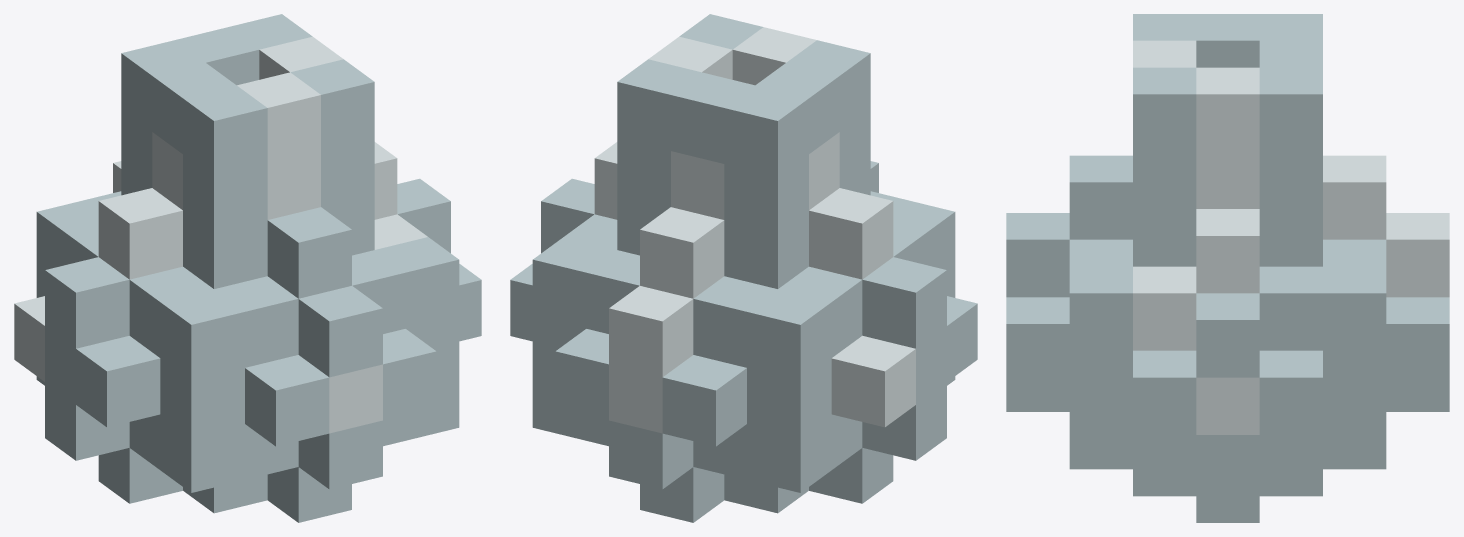
File: Potion_Purple_Glass.fbx
3 views of the same model, side by side, from view 1: azimuth 30°, elevation 25°; view 2: azimuth 150°, elevation 25°; view 3: azimuth 270°, elevation 25° (orthographic). The views are drawn at different scales.
Visible parts, largest first — view 1: Potion_Purple_Glass; view 2: Potion_Purple_Glass; view 3: Potion_Purple_Glass.
Part boxes in pixels (left/top/right/bottom): Potion_Purple_Glass: left=14, top=14, right=481, bottom=522; Potion_Purple_Glass: left=510, top=14, right=977, bottom=522; Potion_Purple_Glass: left=1006, top=14, right=1449, bottom=522.
Bounding box in the file's own units: 0.2333 × 0.2333 × 0.2333.
Materials: 1 (1 with a texture image).
